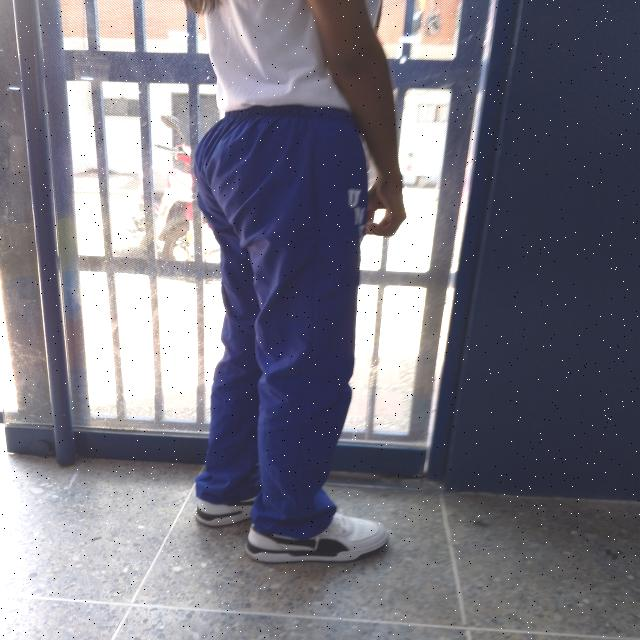uniforme_superior: (193, 104, 371, 538)
